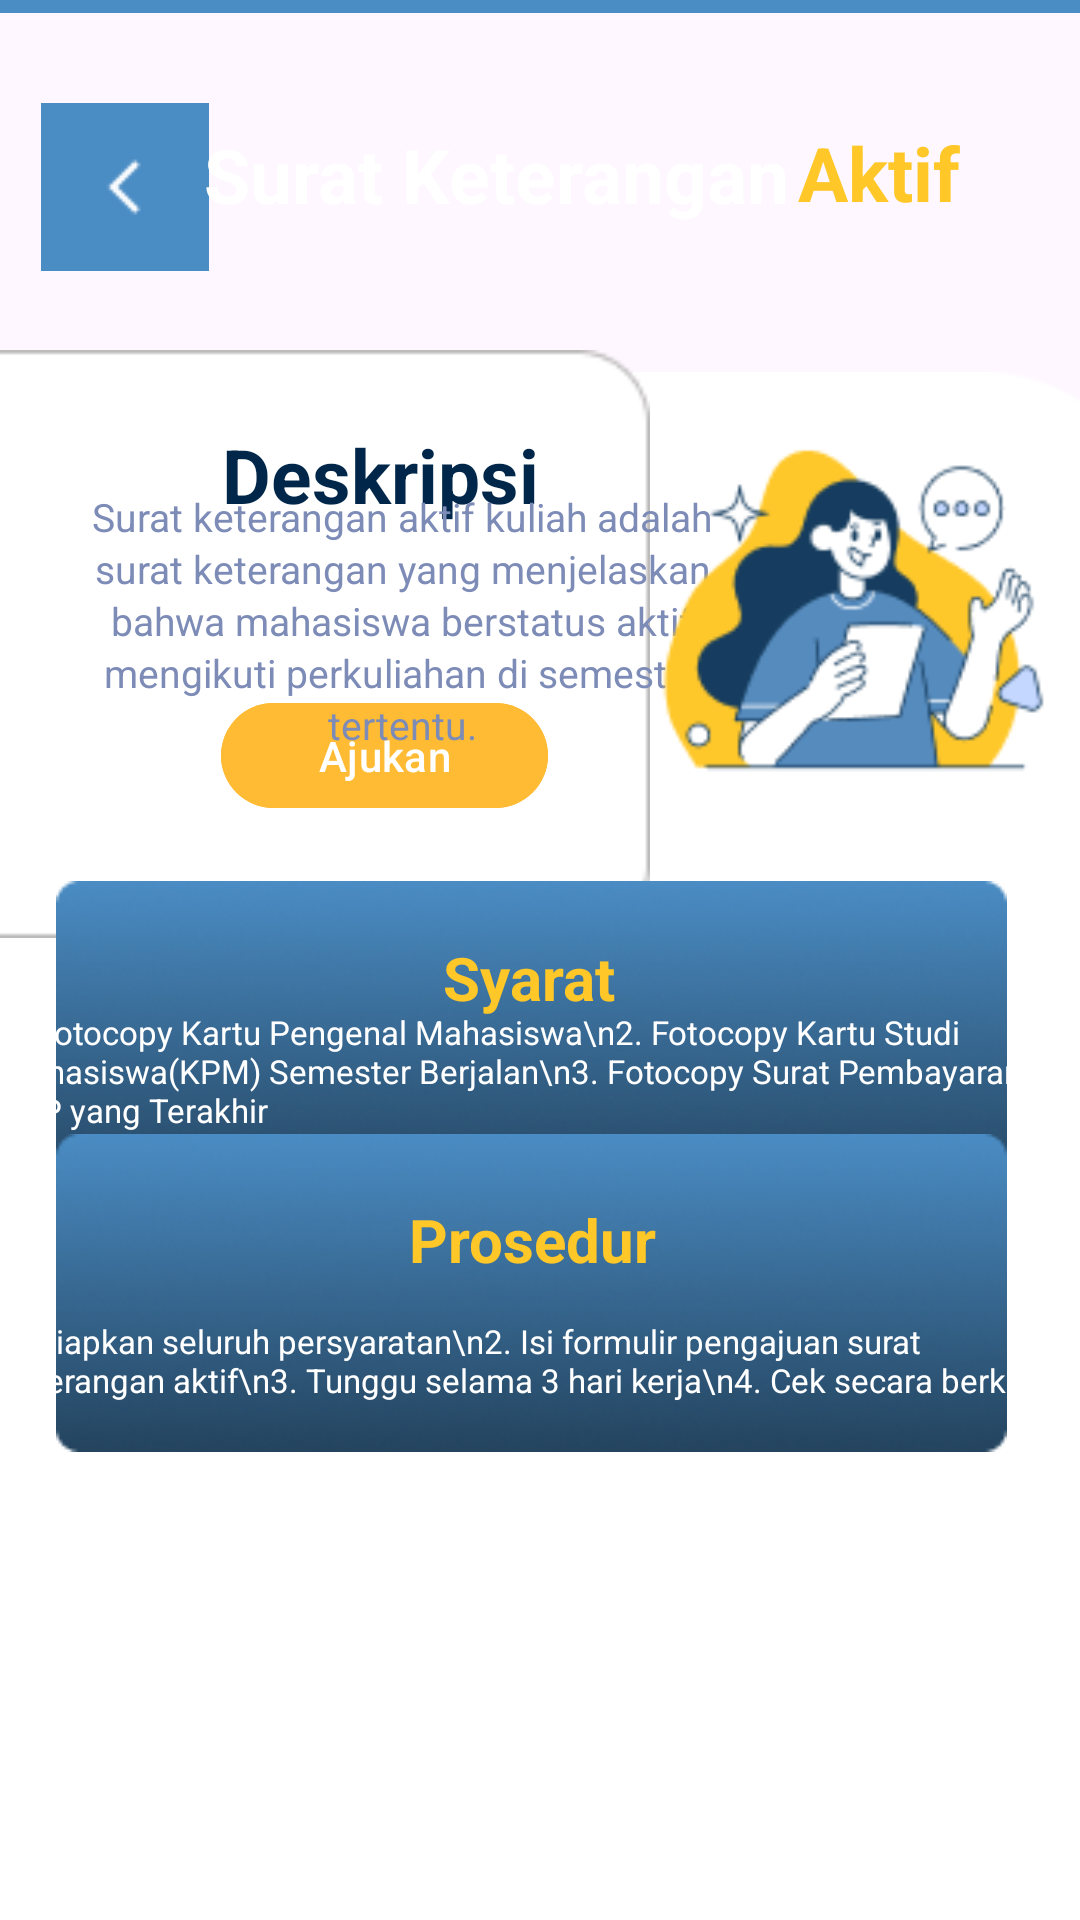

Icons on this 1080w x 1920h Android screen, each with its box as {"x1": x1, "y1": y1, "x2": x2, "y2": y2}:
back: {"x1": 41, "y1": 103, "x2": 209, "y2": 271}
